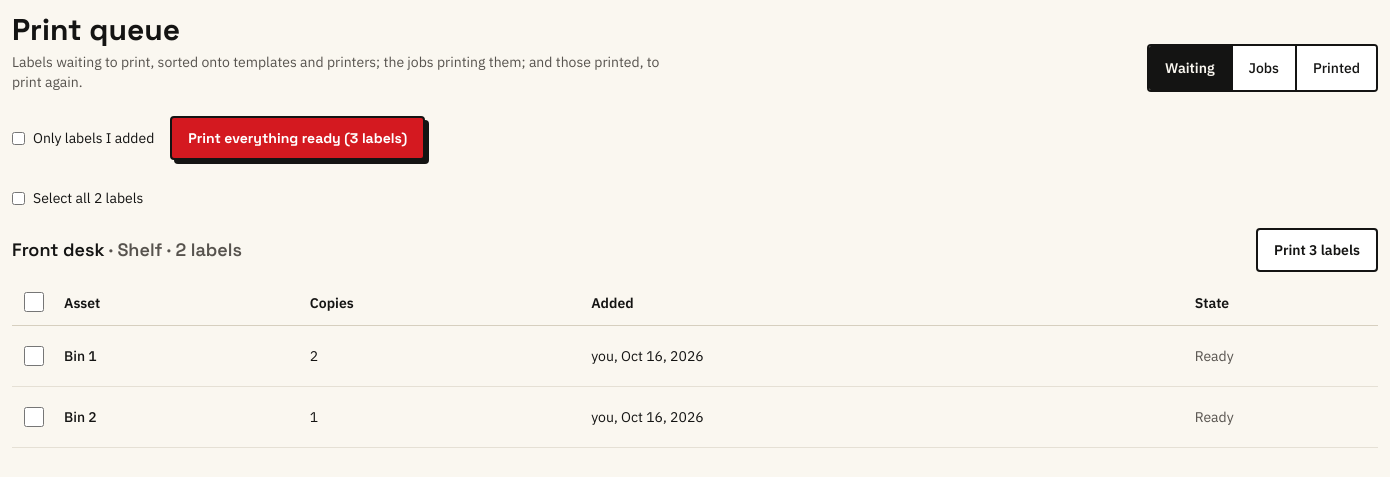
Test: SpoolPage › prints a group in the background, showing its labels as they go
Expected: the button "Print everything ready (3 labels)" is shown, [170,116,425,160]
Click the button "Print 3 labels": x=1317, y=250 [1256,228,1378,272]
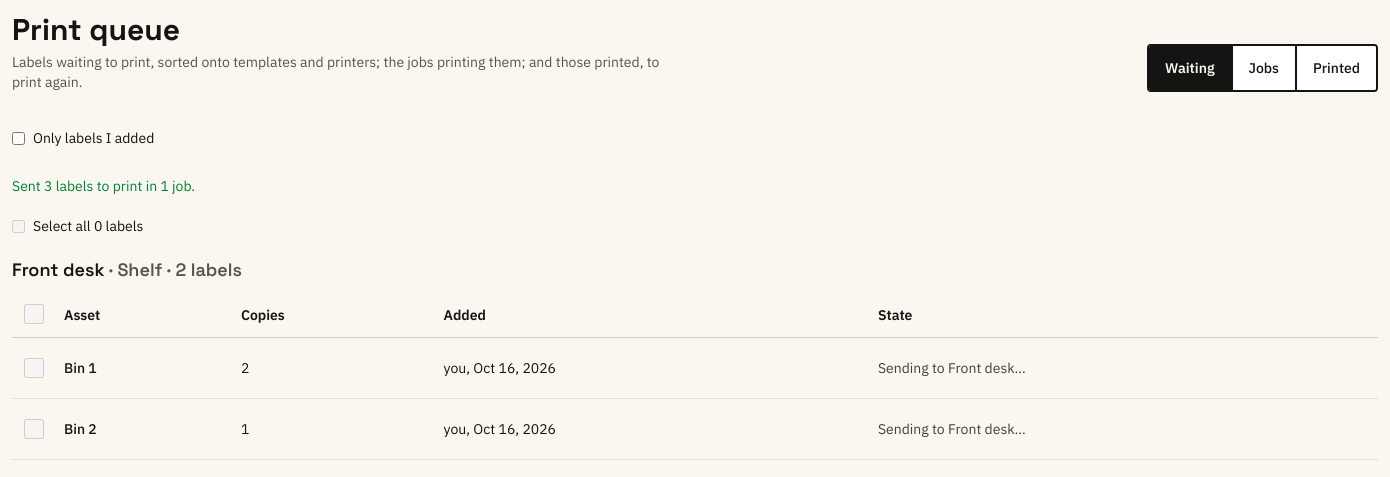
Now the text "Sent 3 labels to print in 1 job." is shown, box [12,177,195,195]
Now the text "Sending to Front desk…" is shown 2 times, box [878,359,1026,377]; [878,420,1026,438]
Now the checkbox named "Select Bin 1" is disabled, box [24,358,44,378]
